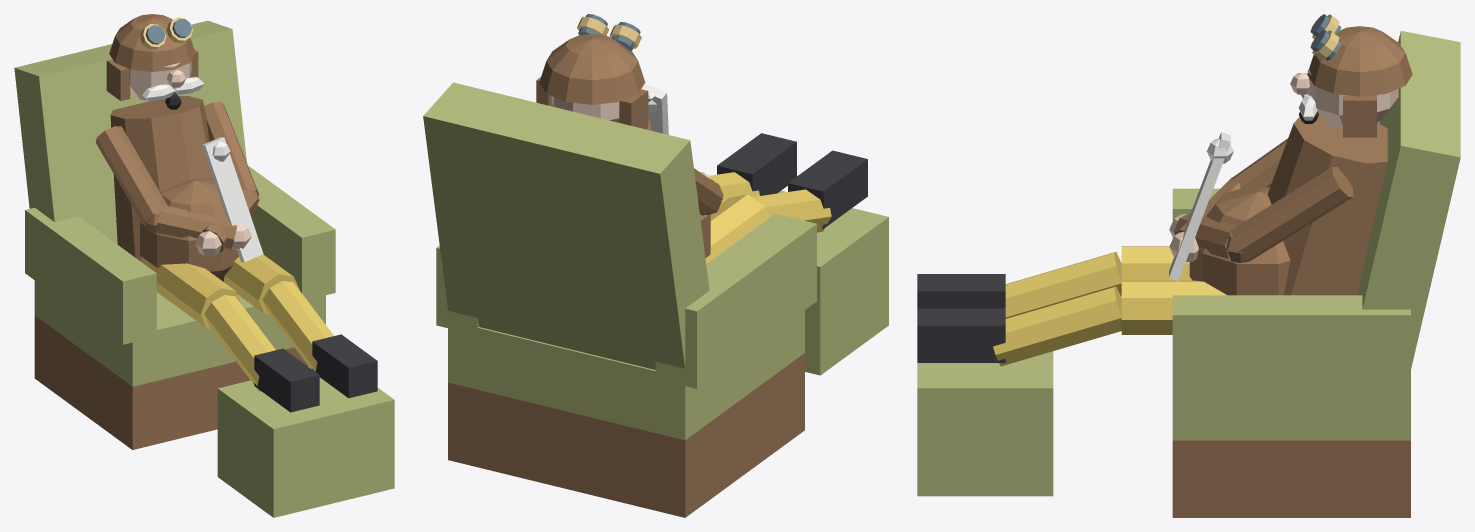
File: HJ_Piloto.fbx
3 renders of one model, left to right at view 1: azimuth 30°, elevation 25°; view 2: azimuth 150°, elevation 25°; view 3: azimuth 270°, elevation 25°, orthographic. The views are drawn at different scales.
Visible parts, largest first — view 1: HJ_Piloto; view 2: HJ_Piloto; view 3: HJ_Piloto.
Part boxes in pixels (x1,y1,x2,y2): HJ_Piloto: (14, 14, 394, 517); HJ_Piloto: (423, 14, 888, 517); HJ_Piloto: (917, 14, 1460, 517).
Bounding box in the file's own units: 0.88 × 1.42 × 1.6.
